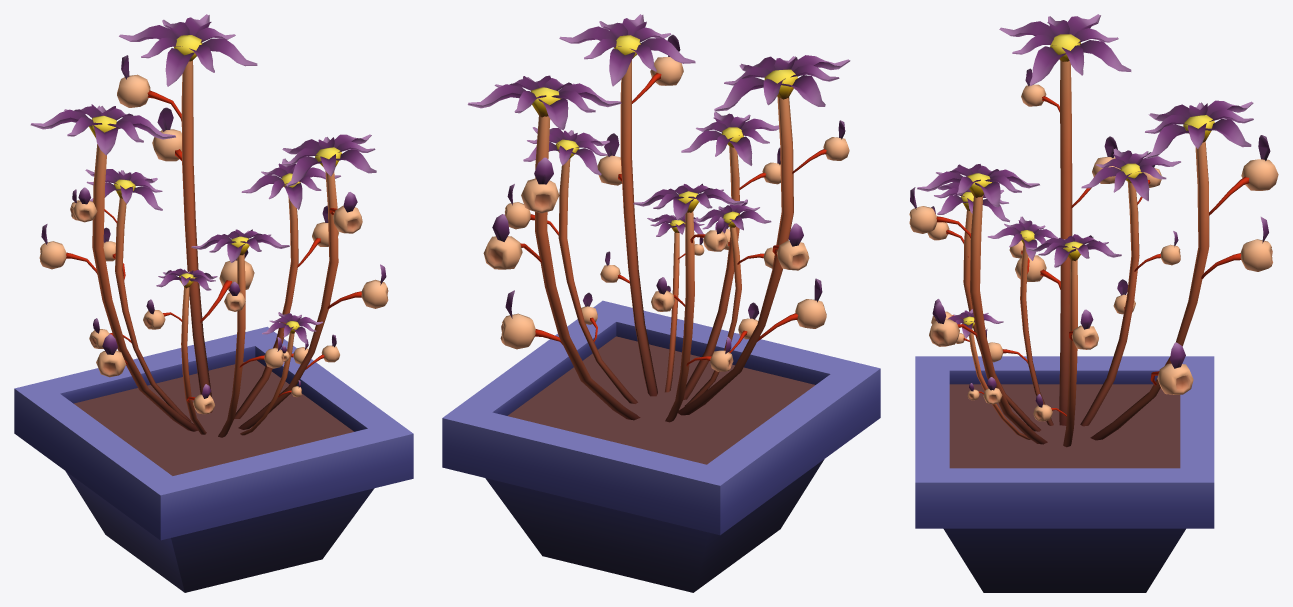
File: wp_wPot_30.fbx
3 views of the same model, side by side, from view 1: azimuth 30°, elevation 25°; view 2: azimuth 150°, elevation 25°; view 3: azimuth 270°, elevation 25° (orthographic). The views are drawn at different scales.
Parts seen in each view (by area): view 1: w_pl30; view 2: w_pl30; view 3: w_pl30.
Part boxes in pixels (x1,y1,x2,y2): w_pl30: (14, 14, 413, 592); w_pl30: (442, 14, 880, 592); w_pl30: (909, 14, 1278, 592).
Bounding box in the file's own units: 130 × 192 × 136.
